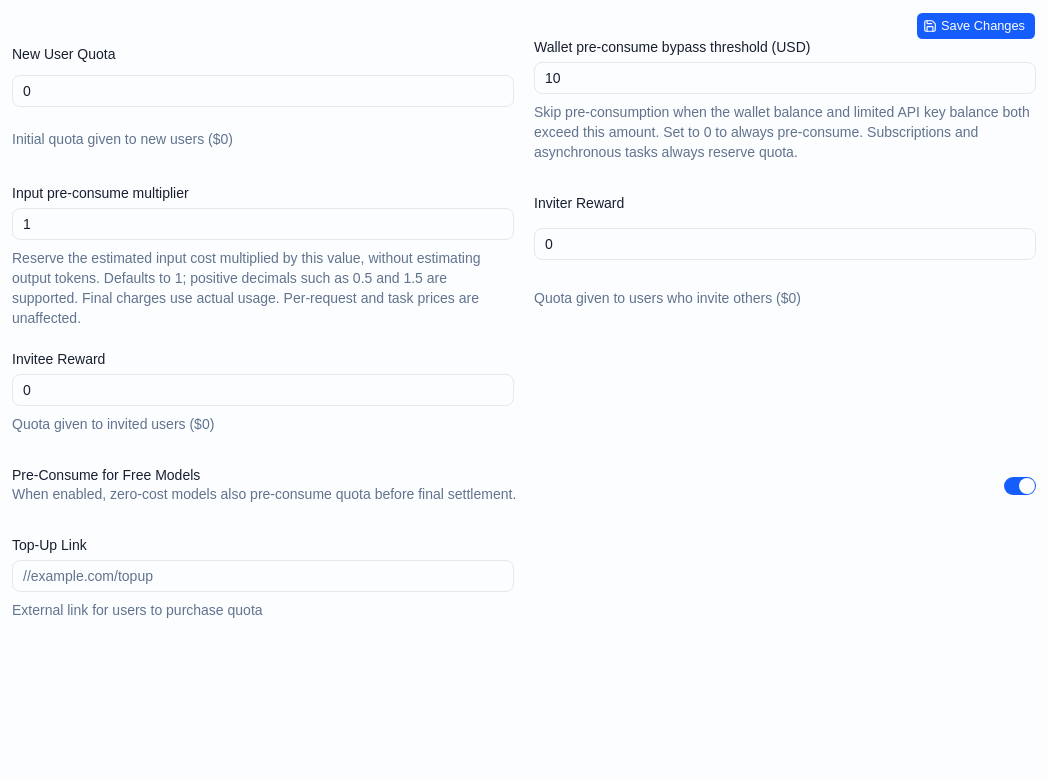
Test: invalid multiplier "-0.5" shows a field error and prevents saving
Replace the text in the number field labelled "Input pre-consume multiplier" with "-0.5" at (263, 224), box [12, 208, 514, 240]
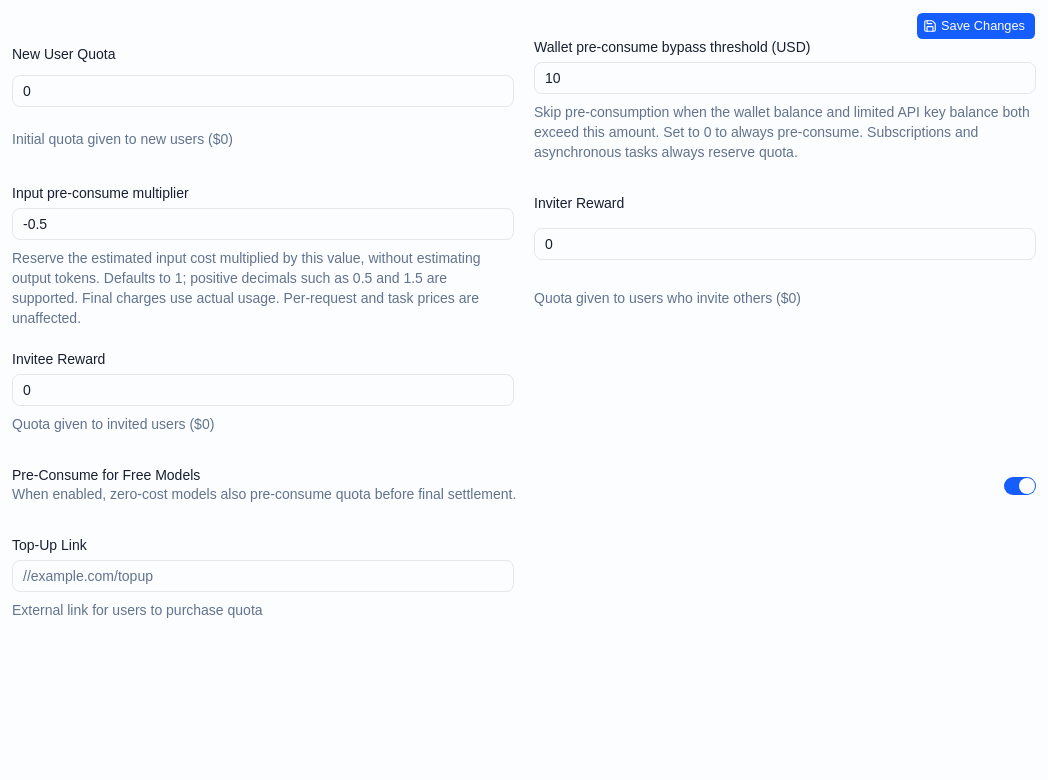
Click the button "Save Changes".
click(976, 26)  # box [916, 12, 1036, 40]
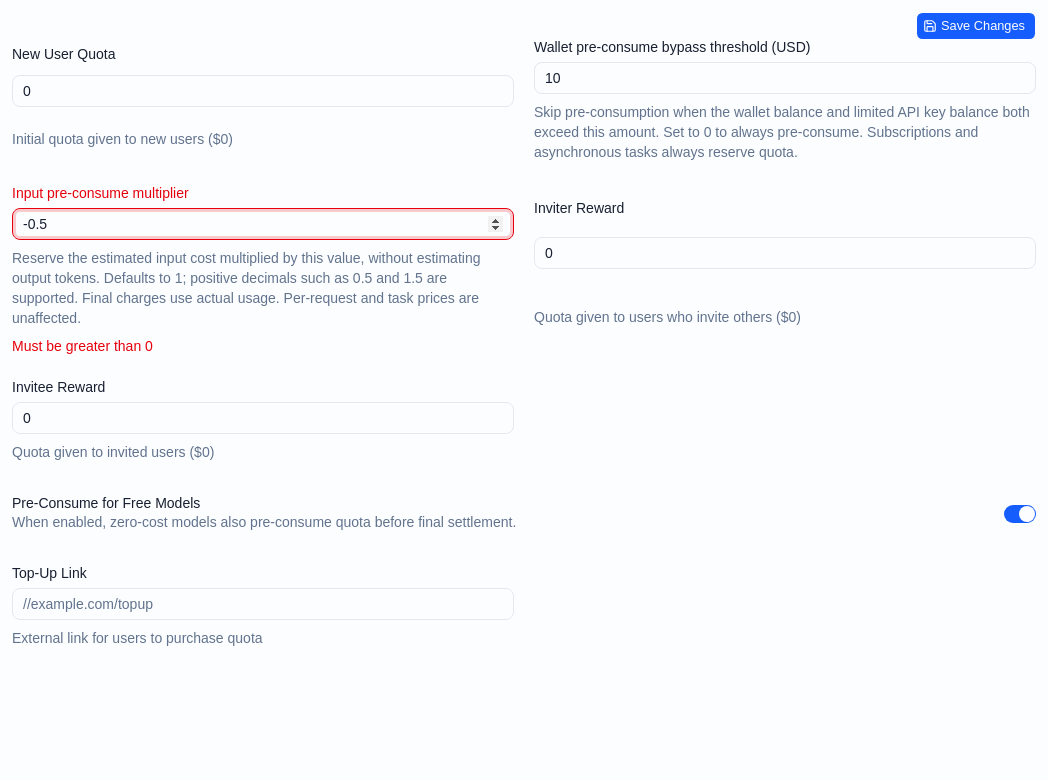
Expected: the text "Must be greater than 0" is shown, [12, 338, 153, 354]
